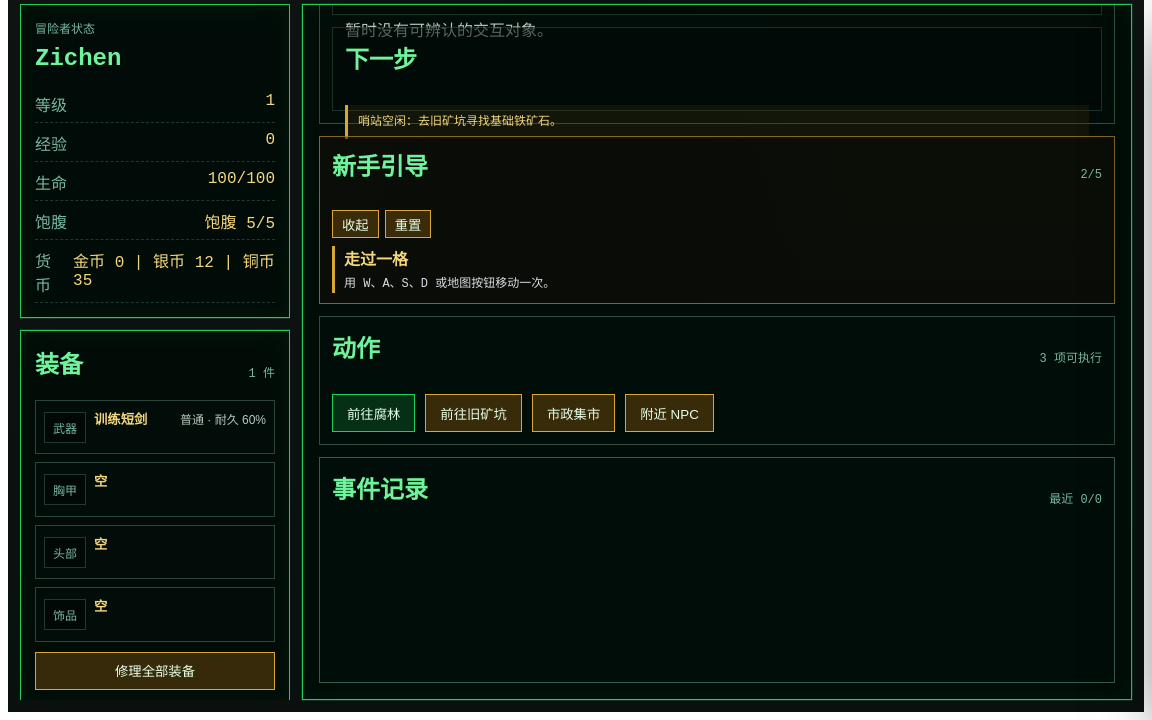
it: GameShell › refreshes visible inventory after a rule-verified NPC resource grant
The width and height of the screenshot is (1152, 720).
(page scrolled)
Click the button "附近 NPC".
click(670, 413)  # box [625,394,714,432]
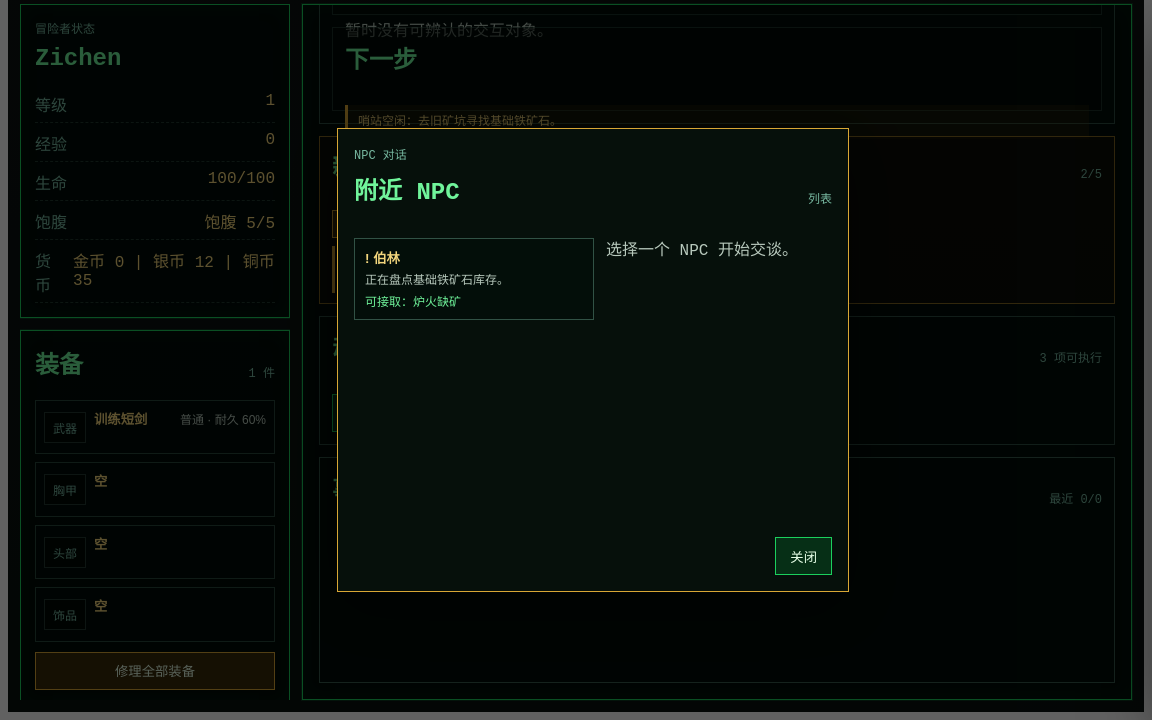
Click the button "! 伯林 正在盘点基础铁矿石库存。 可接取：炉火缺矿".
click(474, 279)  # box [354,238,594,320]
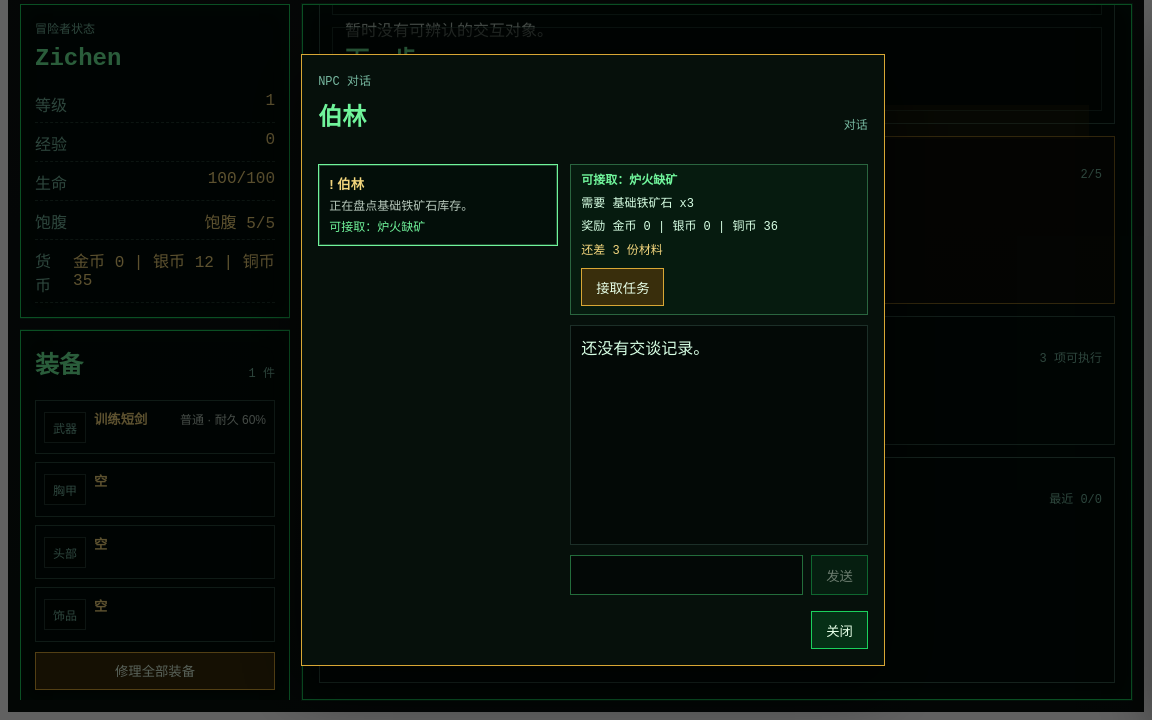
Type "能不能给我一块基础铁矿石？" into the field named "对 NPC 说".
click(687, 575); type("能不能给我一块基础铁矿石？")  # box [570,555,803,595]
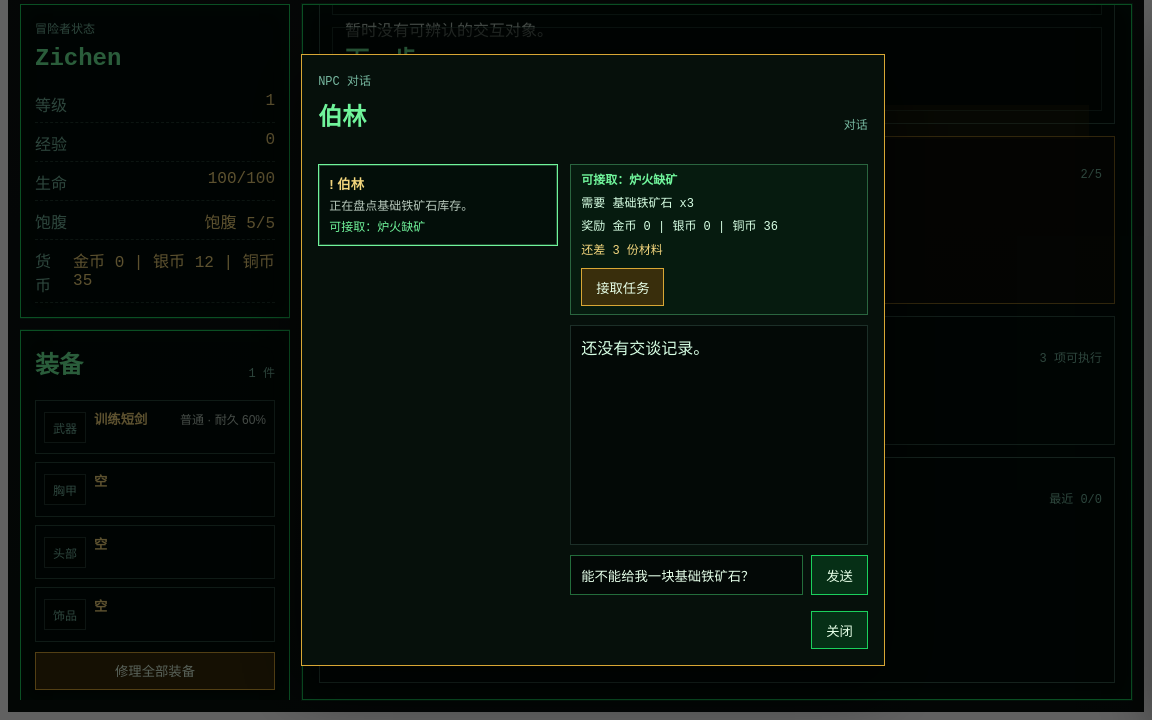
Click the button "发送".
click(840, 575)  # box [811,555,868,595]
(page scrolled)
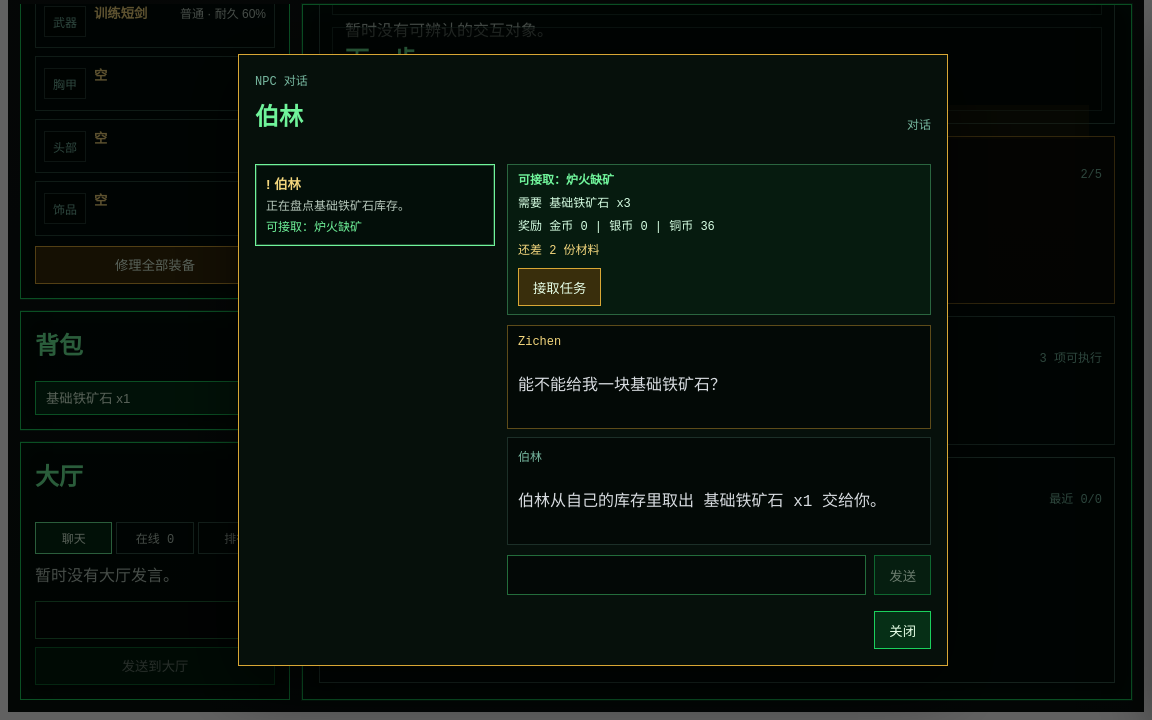
Now the text "伯林从自己的库存里取出 基础铁矿石 x1 交给你。" is shown, box [518,493,886,511]
Now the button "基础铁矿石 x1" is shown, box [35,381,267,415]
